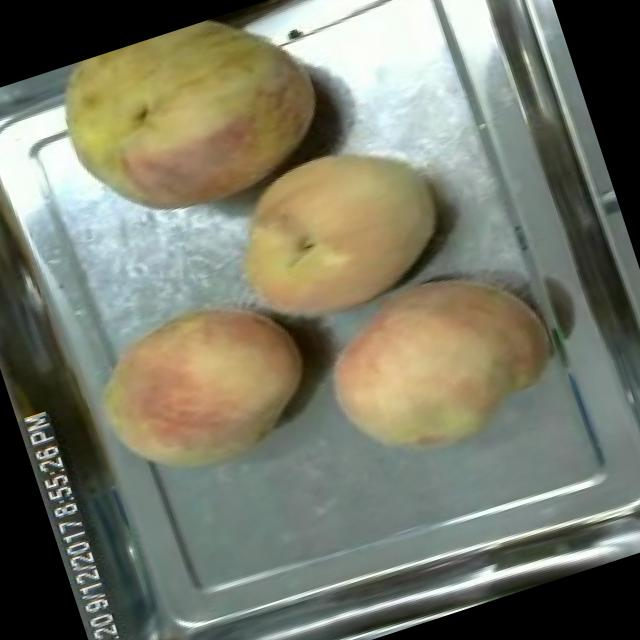Fruit: (27, 0, 352, 259), (300, 243, 574, 485), (198, 115, 467, 352), (70, 270, 334, 503)
